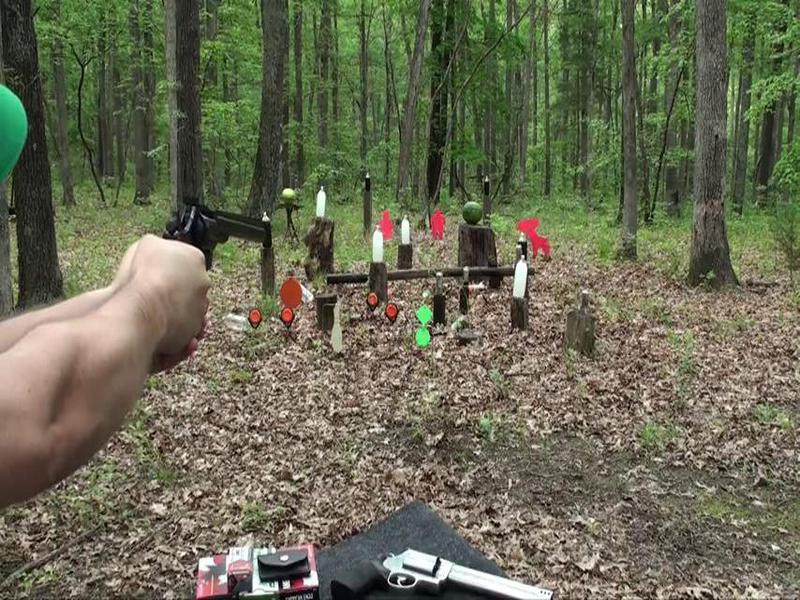Revolver: (143, 188, 289, 288)
